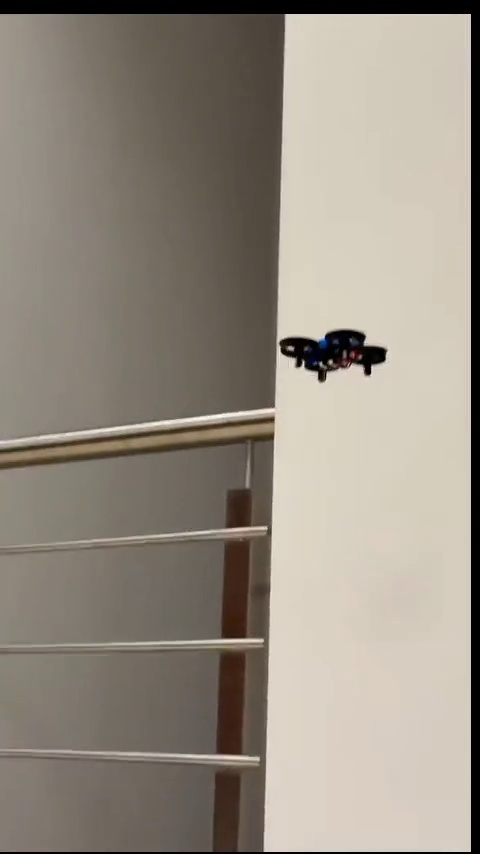drone: (281, 330, 381, 382)
